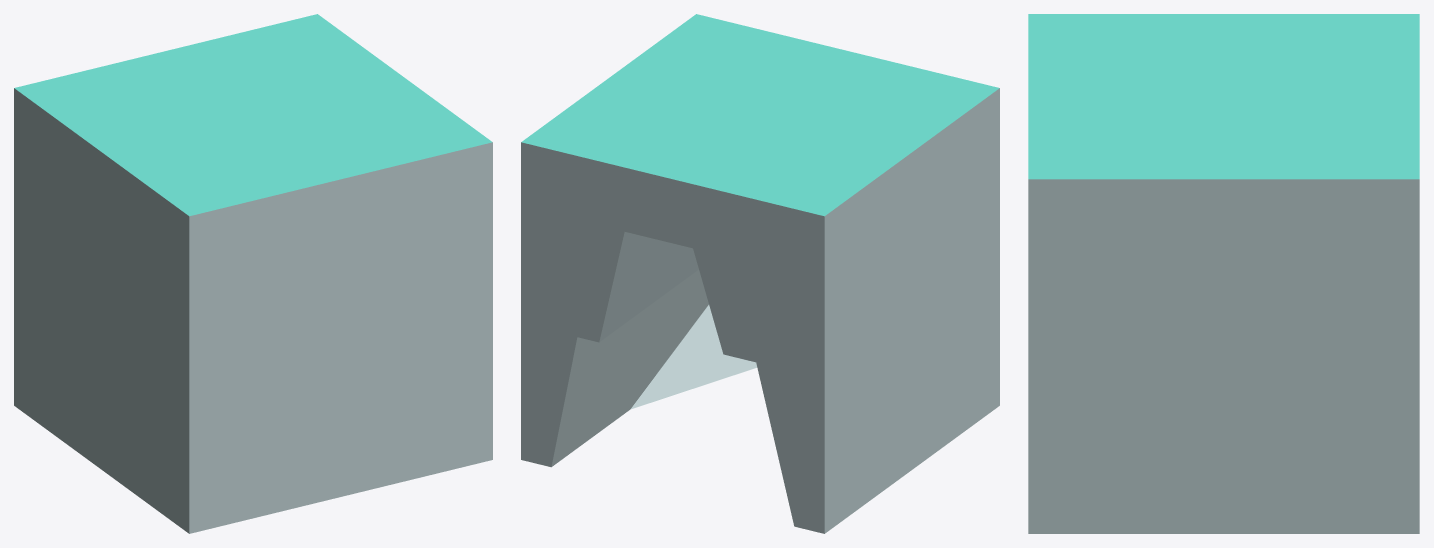
The model's file is cliff_blockCave_stone.glb.
The picture shows the model from 3 angles, left to right: view 1: azimuth 30°, elevation 25°; view 2: azimuth 150°, elevation 25°; view 3: azimuth 270°, elevation 25°; orthographic projection. The views are drawn at different scales.
Parts seen in each view (by area): view 1: cliff_blockCave_stone; view 2: cliff_blockCave_stone; view 3: cliff_blockCave_stone.
Part boxes in pixels (x1,y1,x2,y2): cliff_blockCave_stone: (14, 14, 492, 533); cliff_blockCave_stone: (521, 14, 999, 533); cliff_blockCave_stone: (1028, 14, 1419, 533).
Size of the model in its own units: 1 by 1 by 1.
